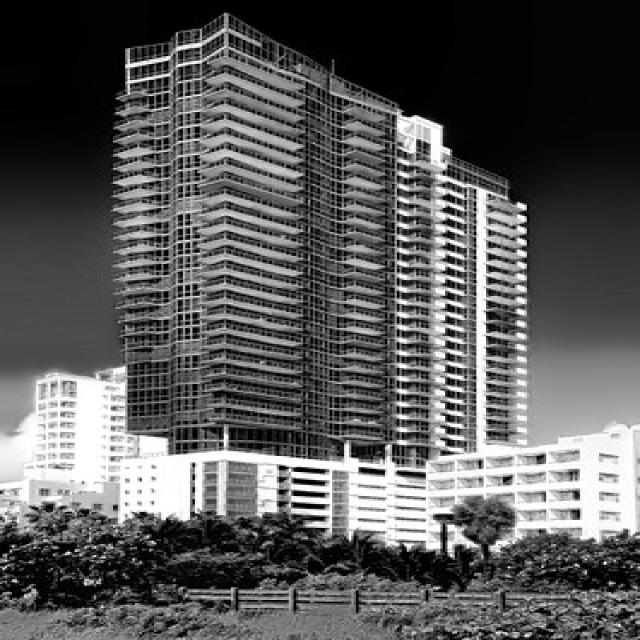building: (112, 18, 403, 456)
